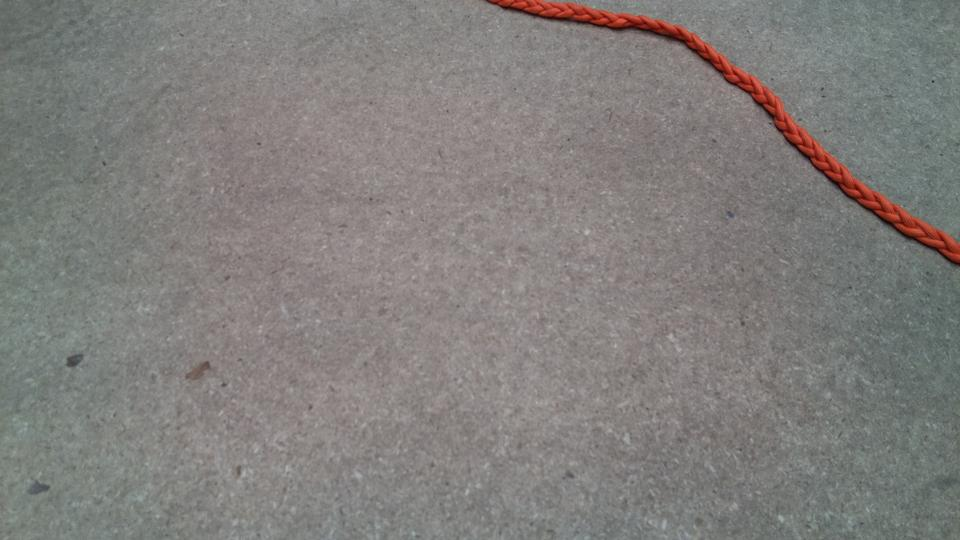rope: (511, 1, 960, 244)
